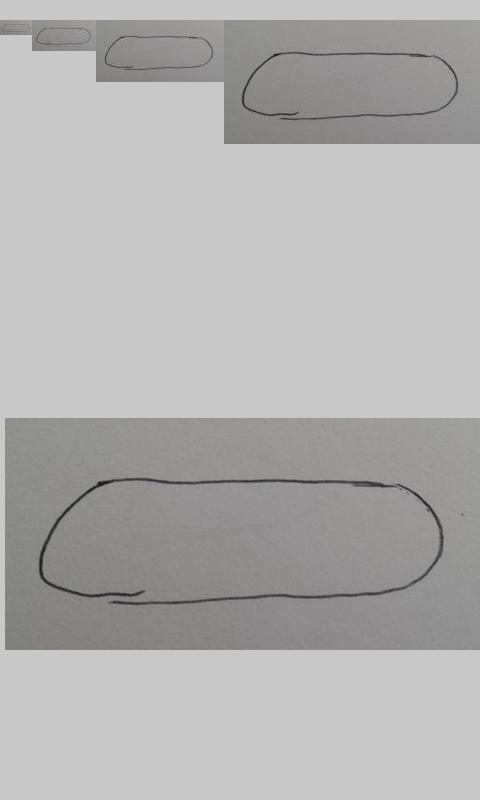chip: (39, 477, 446, 605), (241, 51, 459, 121), (104, 35, 214, 71), (36, 27, 92, 46), (1, 23, 31, 33)
